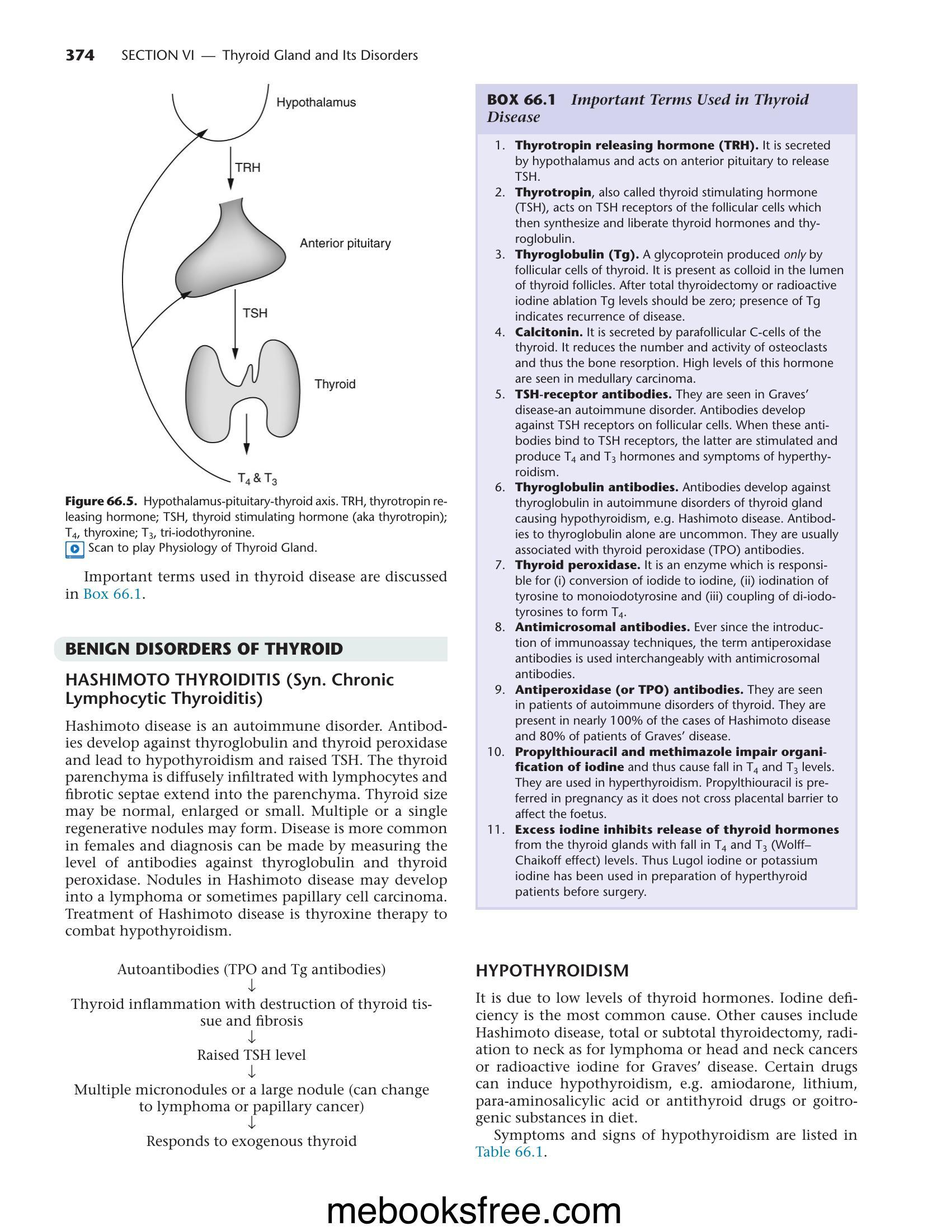caption: (62, 494, 448, 560), (486, 92, 810, 124)
header: (120, 48, 419, 66)
image: (84, 75, 413, 492)
list: (478, 133, 855, 908)
section-heading: (64, 640, 343, 657)
sub-section-heading: (64, 671, 396, 710), (475, 963, 630, 978)
text: (64, 718, 449, 1157), (473, 991, 860, 1161), (64, 569, 448, 602)
